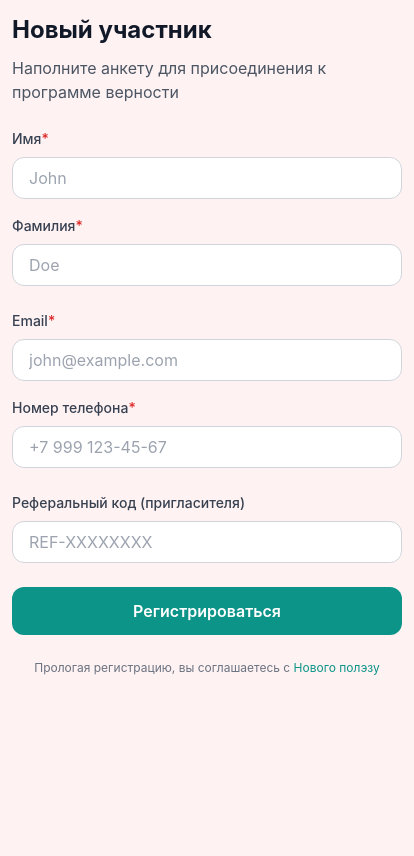
Test: GuestRegistrationForm Component › should show validation error for short phone
Type "123456789" into the field with placeholder "+7 999 123-45-67". click: (207, 447)
box: x1=12 y1=426 x2=402 y2=468
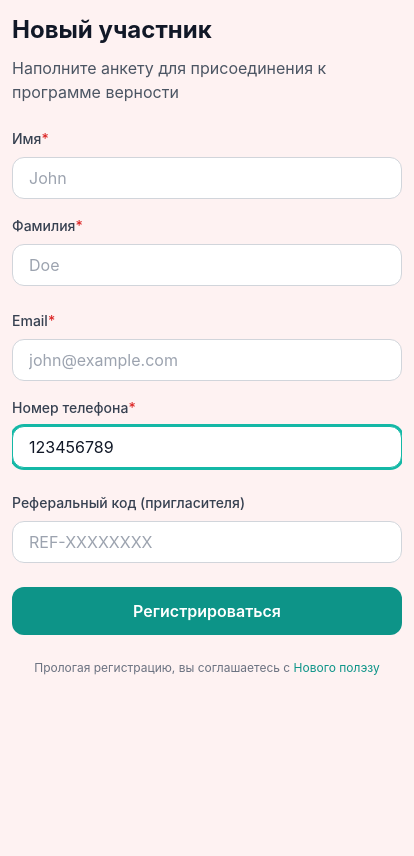
Click the button "Регистрироваться". click: (207, 611)
box: x1=12 y1=587 x2=402 y2=635
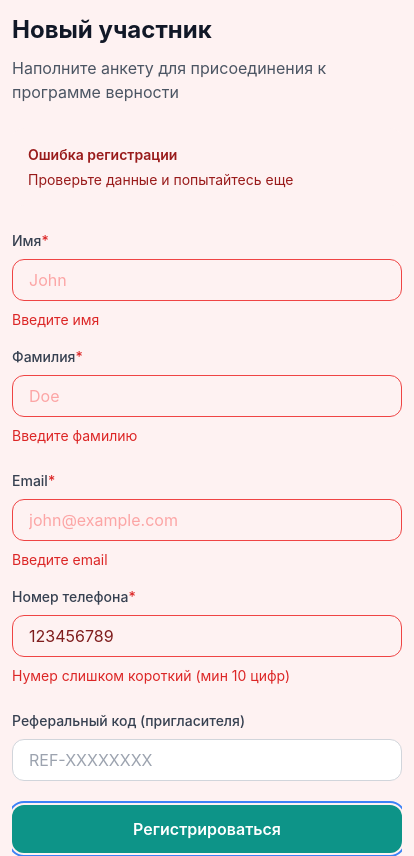
Result: the text "Нумер слишком короткий (мин 10 цифр)" is shown at x1=12 y1=667 x2=290 y2=684
